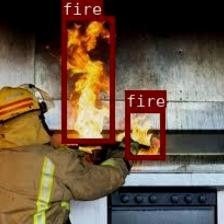fire: (61, 15, 114, 142), (125, 108, 164, 158)
